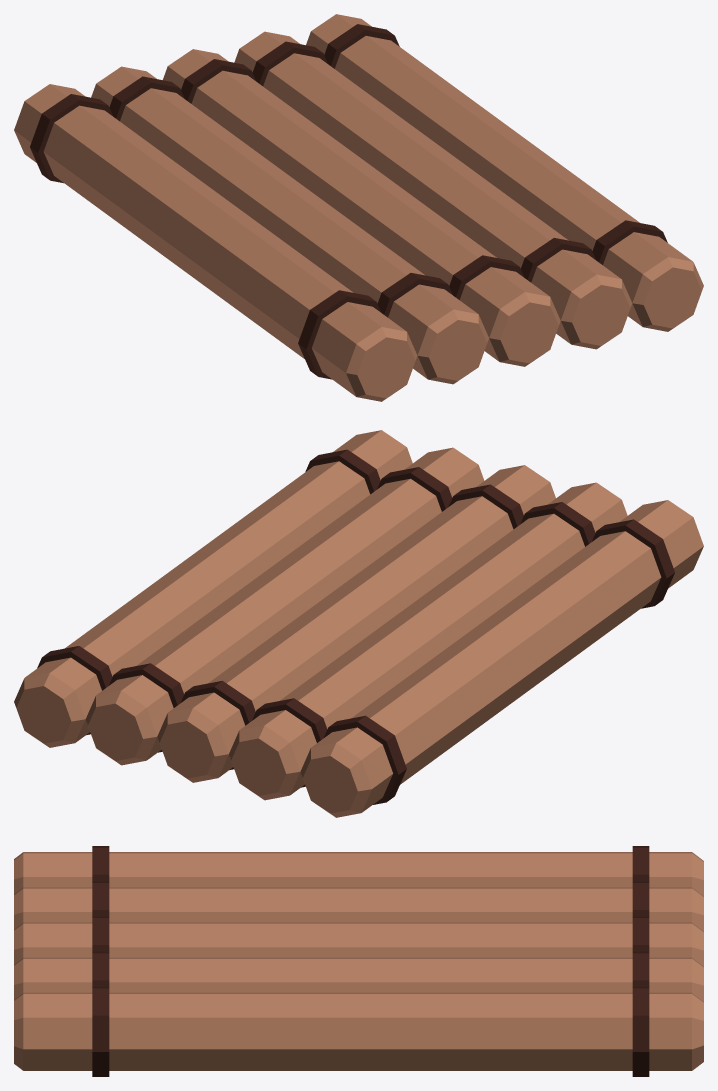
The model's file is raft.fbx.
3 views of the same model, one above another, from view 1: azimuth 30°, elevation 25°; view 2: azimuth 150°, elevation 25°; view 3: azimuth 270°, elevation 25° (orthographic).
Parts seen in each view (by area): view 1: raft; view 2: raft; view 3: raft.
Part boxes in pixels (left/top/right/bottom): raft: left=14, top=14, right=703, bottom=401; raft: left=14, top=430, right=703, bottom=817; raft: left=14, top=846, right=703, bottom=1076.
Size of the model in its own units: 810 by 181 by 1303.
